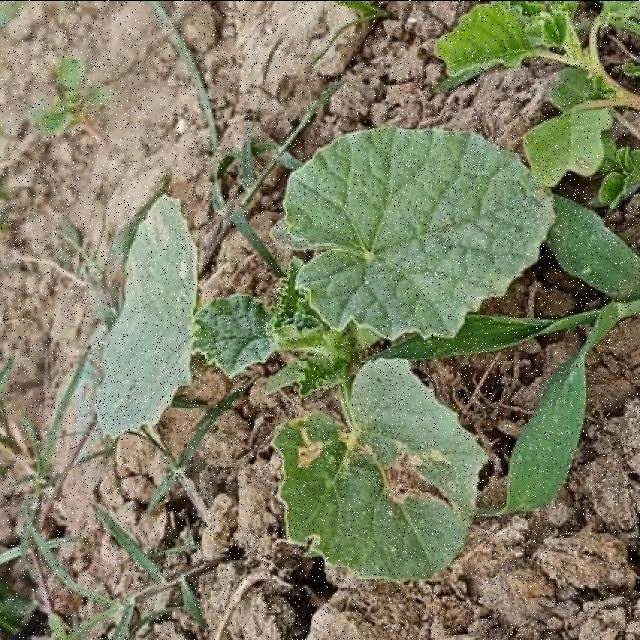plant: (98, 128, 639, 578)
